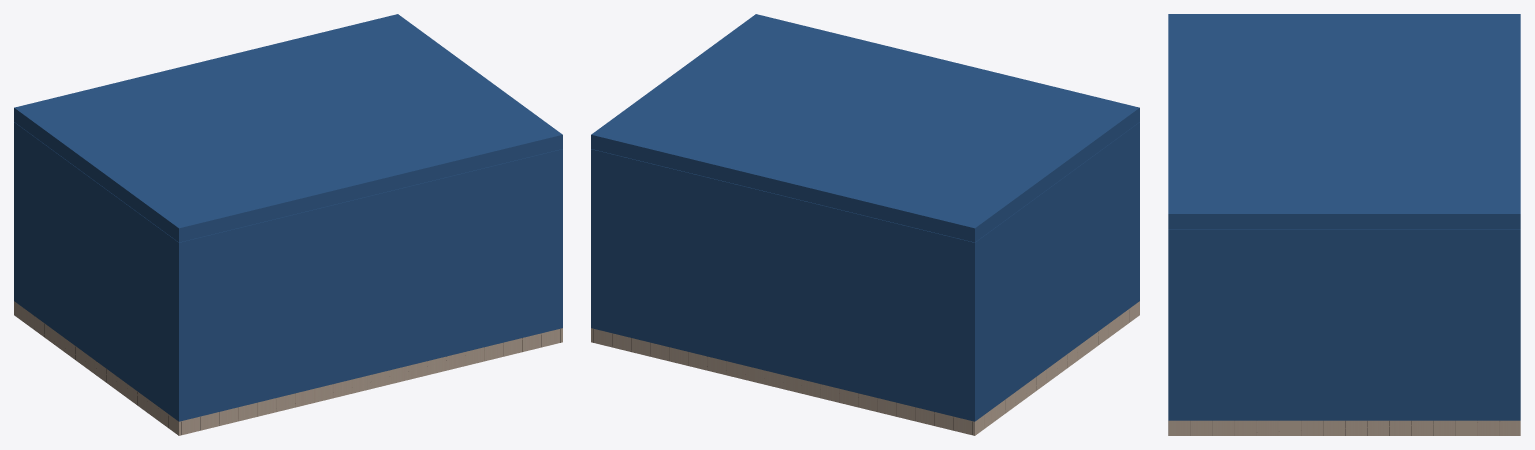
File: Plucking.FBX
The picture shows the model from 3 angles, left to right: view 1: azimuth 30°, elevation 25°; view 2: azimuth 150°, elevation 25°; view 3: azimuth 270°, elevation 25°; orthographic projection. The views are drawn at different scales.
Visible parts, largest first — view 1: room01, room02, room00; view 2: room01, room02, room00; view 3: room02, room01, room00.
Boxes of the visible parts, <box> form: room01: <box>14,122,562,421</box>; room02: <box>14,14,562,242</box>; room00: <box>14,301,562,435</box>; room01: <box>591,122,1139,421</box>; room02: <box>591,14,1139,242</box>; room00: <box>591,301,1139,435</box>; room02: <box>1168,14,1520,229</box>; room01: <box>1168,229,1520,420</box>; room00: <box>1168,420,1520,435</box>.
Size of the model in its own units: 319 by 165 by 237.
Materials: 10 (4 with a texture image).
